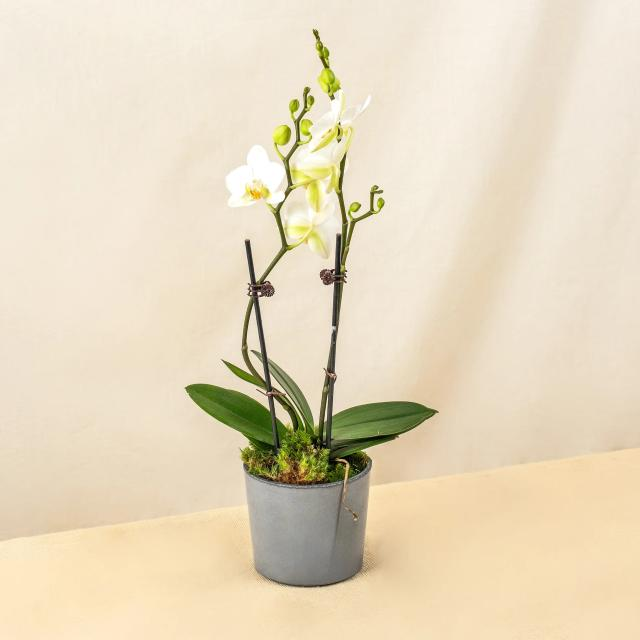flower: (224, 145, 288, 208)
leaf: (185, 381, 299, 450), (250, 350, 317, 435), (315, 402, 437, 441), (330, 434, 397, 459), (223, 358, 268, 392)
plant: (172, 19, 448, 607)
pot: (232, 429, 388, 594)
root: (336, 459, 358, 521)
